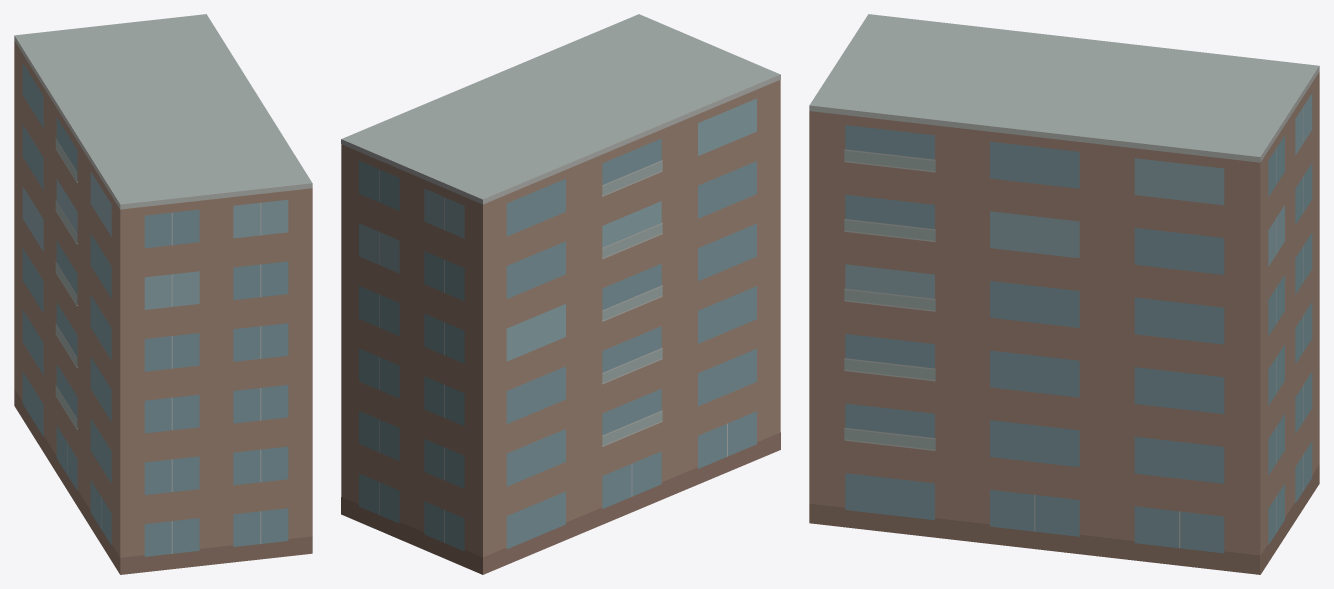
File: survey-upis-32880046.glb
3 renders of one model, left to right at view 1: azimuth 30°, elevation 25°; view 2: azimuth 150°, elevation 25°; view 3: azimuth 270°, elevation 25°, orthographic. The views are drawn at different scales.
Visible parts, largest first — view 1: survey-upis-32880046.tmp; view 2: survey-upis-32880046.tmp; view 3: survey-upis-32880046.tmp.
Part boxes in pixels (left/top/right/bottom): survey-upis-32880046.tmp: left=14, top=14, right=312, bottom=574; survey-upis-32880046.tmp: left=341, top=14, right=780, bottom=574; survey-upis-32880046.tmp: left=809, top=14, right=1319, bottom=574.
Bounding box in the file's own units: 13.46 × 18.3 × 20.27.
